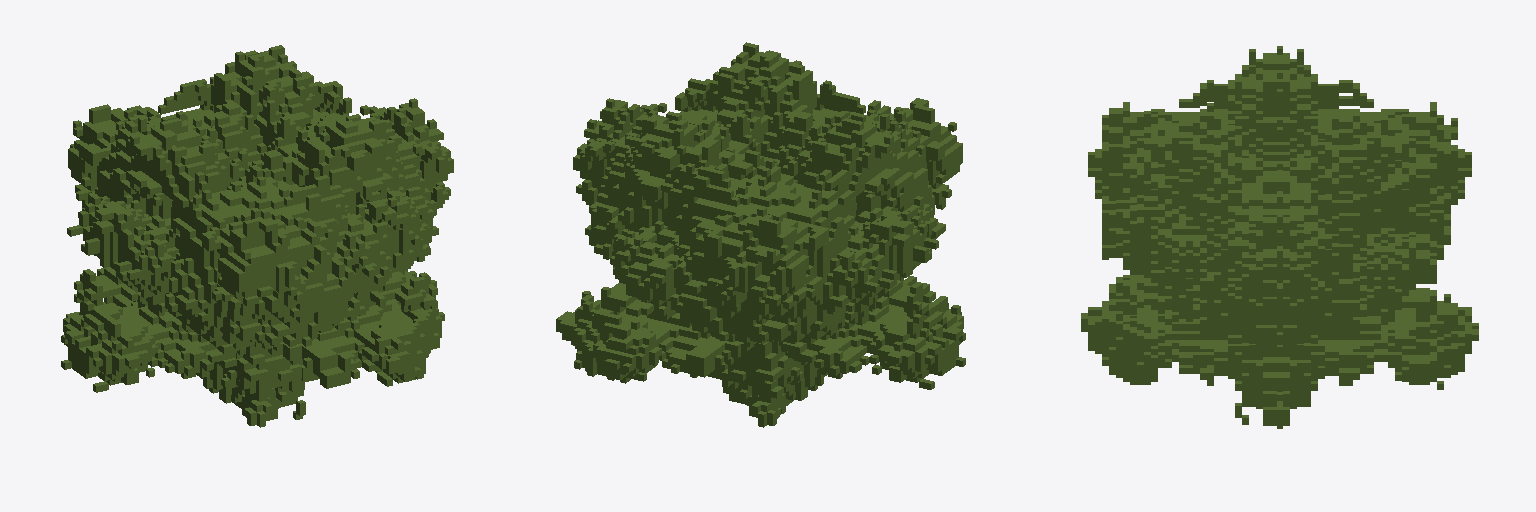
The picture shows the model from 3 angles: view 1: azimuth 30°, elevation 25°; view 2: azimuth 150°, elevation 25°; view 3: azimuth 270°, elevation 25°; orthographic projection.
Visible parts, largest first — view 1: object 1; view 2: object 1; view 3: object 1.
Boxes of the visible parts, x1=… form: object 1: x1=61, y1=45, x2=453, y2=427; object 1: x1=556, y1=42, x2=965, y2=427; object 1: x1=1081, y1=46, x2=1478, y2=428.
Size of the model in its own units: 5.9 by 4.9 by 5.7.
Materials: 1 (1 with a texture image).